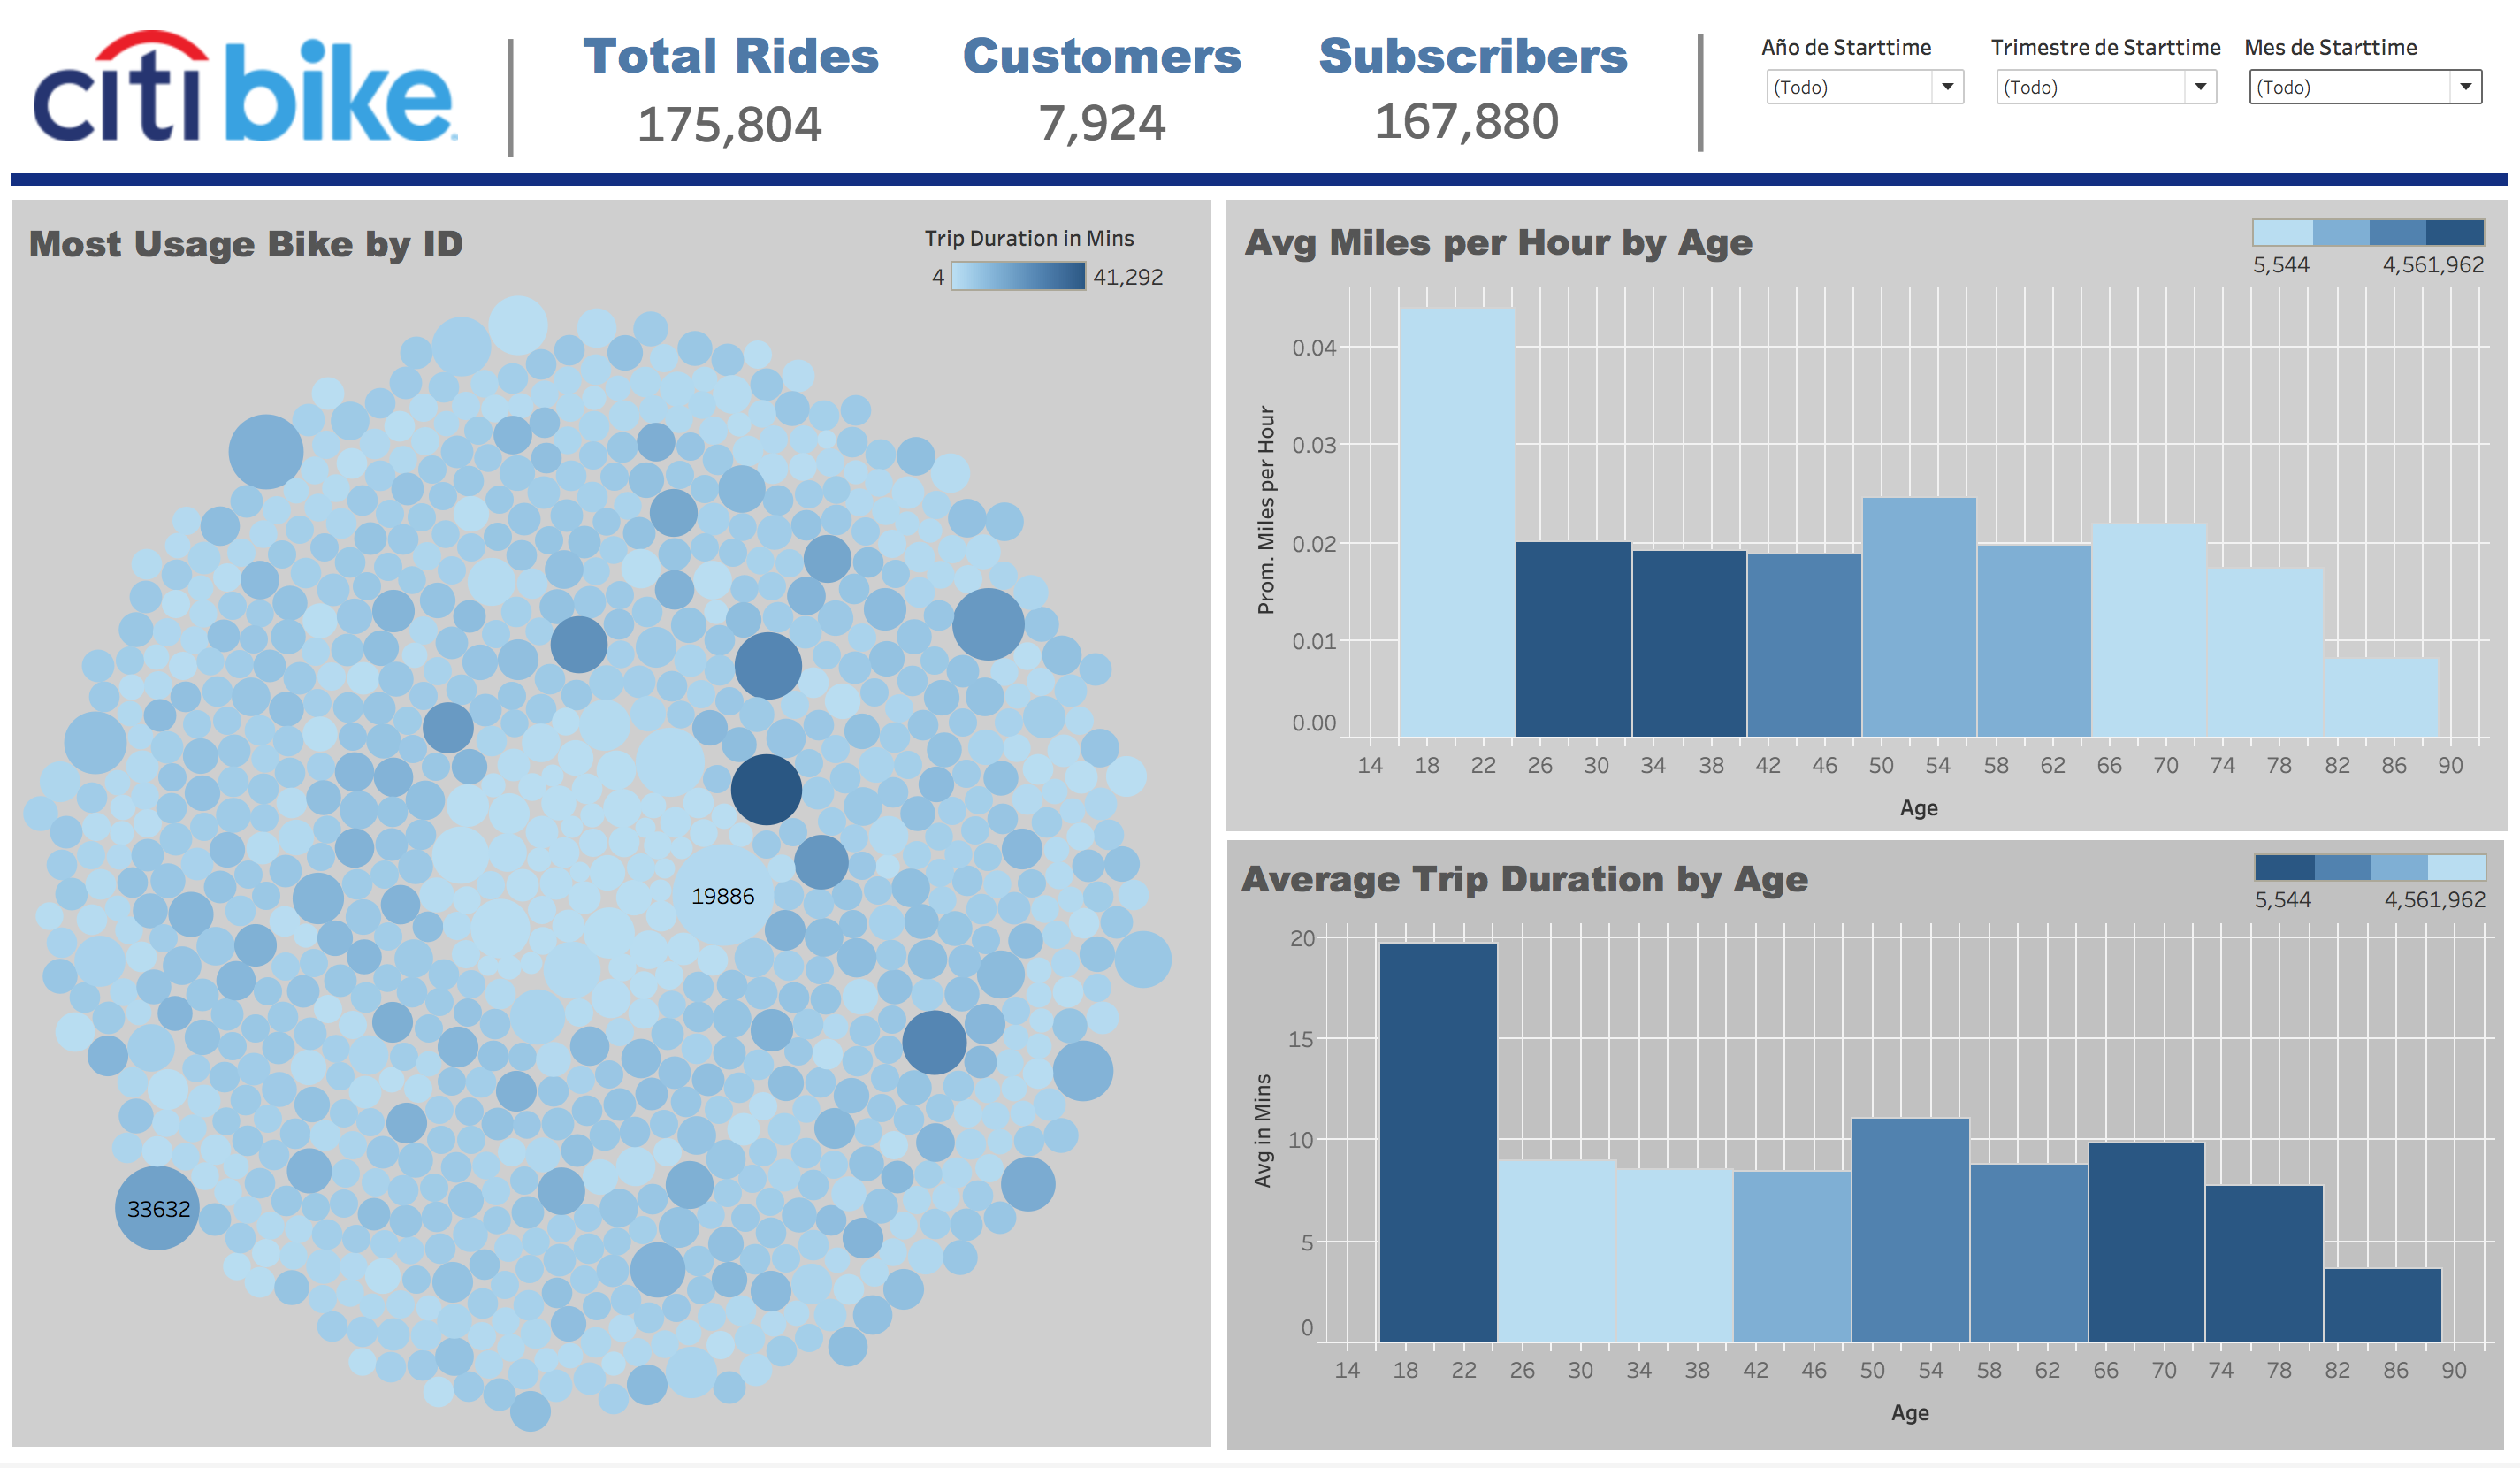

Layout of this report page (visuals, bound fields, positions):
{"tool":"tableau","page":{"name":"Dashboard 12-15","canvas":[1000,1000],"units":"permille","ordinal":1},"visuals":[{"type":"text","box":[665.3,4.8,21.5,115.1]},{"type":"text","box":[197.9,7.2,20.8,117.5]},{"type":"text","box":[234.7,16.8,134,57.6]},{"type":"text","box":[523.6,21.6,125.7,46.8]},{"type":"text","box":[383.3,27.6,114.6,36]},{"type":"image","param":"/Users/jahirmunguia/Dropbox/TECMC201811DATA/HW18/Images/CitiBike_Logo_p.svg","box":[20.8,28.8,175.7,75.5]},{"type":"filter","title":"Customers","param":"[federated.1l4bbzk0cbj91a12lvhcv0h2i7lq].[yr:starttime:ok]","box":[699.3,30,81.9,76.7]},{"type":"filter","title":"Customers","param":"[federated.1l4bbzk0cbj91a12lvhcv0h2i7lq].[qr:starttime:ok]","box":[789.6,30,91,76.7]},{"type":"filter","title":"Customers","param":"[federated.1l4bbzk0cbj91a12lvhcv0h2i7lq].[mn:starttime:ok]","box":[888.9,30,95.8,76.7]},{"type":"worksheet","title":"Subs","mark":"Automatic","box":[540.3,67.2,109.7,52.8]},{"type":"worksheet","title":"Customers","mark":"Automatic","box":[399.3,68.4,90.3,55.2]},{"type":"worksheet","title":"Total Rides","mark":"Automatic","box":[250.7,69.5,98.6,54]},{"type":"blank","box":[11.8,125.9,980.6,8.4]},{"type":"blank","box":[12.5,143.9,470.8,845.3]},{"type":"blank","box":[488.9,143.9,503.5,428.1]},{"type":"worksheet","title":"MilesperHour","mark":"Automatic","rows":["Calculation_6567655684904656899"],"cols":["Age (agrupación)"],"box":[493.8,149.9,491.7,424.5]},{"type":"worksheet","title":"Bike ID Usage","mark":"Circle","box":[16,151.1,464.6,833.3]},{"type":"legend","title":"MilesperHour","param":"[federated.1l4bbzk0cbj91a12lvhcv0h2i7lq].[sum:Calculation_6567655684899479553:qk","box":[889.6,152.3,97.2,91.1]},{"type":"legend","title":"Bike ID Usage","param":"[federated.1l4bbzk0cbj91a12lvhcv0h2i7lq].[sum:Calculation_6567655684900229122:qk","box":[370.8,159.5,97.2,91.1]},{"type":"blank","box":[489.6,577.9,501.4,413.7]},{"type":"worksheet","title":"AgevsAvgTrip","mark":"Automatic","rows":["Calculation_6567655684900229122"],"cols":["Age (agrupación)"],"box":[492.4,581.5,495.1,402.9]},{"type":"legend","title":"AgevsAvgTrip","param":"[federated.1l4bbzk0cbj91a12lvhcv0h2i7lq].[sum:Calculation_6567655684899479553:qk","box":[890.3,582.7,97.2,50.4]}]}

Visuals, with their boxes on the dashboard's canvas, which has no fixed pixel size, in thousandths of its width and height (x1, y1, x2, y2). These are canvas units, not pixel positions in the 2520x1468 screenshot, which may show the page scaled, cropped or inside an application window:
text: bbox(665, 5, 687, 120)
text: bbox(198, 7, 219, 125)
text: bbox(235, 17, 369, 74)
text: bbox(524, 22, 649, 68)
text: bbox(383, 28, 498, 64)
image: bbox(21, 29, 196, 104)
"Customers" filter: bbox(699, 30, 781, 107)
"Customers" filter: bbox(790, 30, 881, 107)
"Customers" filter: bbox(889, 30, 985, 107)
"Subs" worksheet: bbox(540, 67, 650, 120)
"Customers" worksheet: bbox(399, 68, 490, 124)
"Total Rides" worksheet: bbox(251, 70, 349, 124)
blank: bbox(12, 126, 992, 134)
blank: bbox(12, 144, 483, 989)
blank: bbox(489, 144, 992, 572)
"MilesperHour" worksheet: bbox(494, 150, 986, 574)
"Bike ID Usage" worksheet (Circle marks): bbox(16, 151, 481, 984)
"MilesperHour" legend: bbox(890, 152, 987, 243)
"Bike ID Usage" legend: bbox(371, 160, 468, 251)
blank: bbox(490, 578, 991, 992)
"AgevsAvgTrip" worksheet: bbox(492, 582, 988, 984)
"AgevsAvgTrip" legend: bbox(890, 583, 988, 633)
